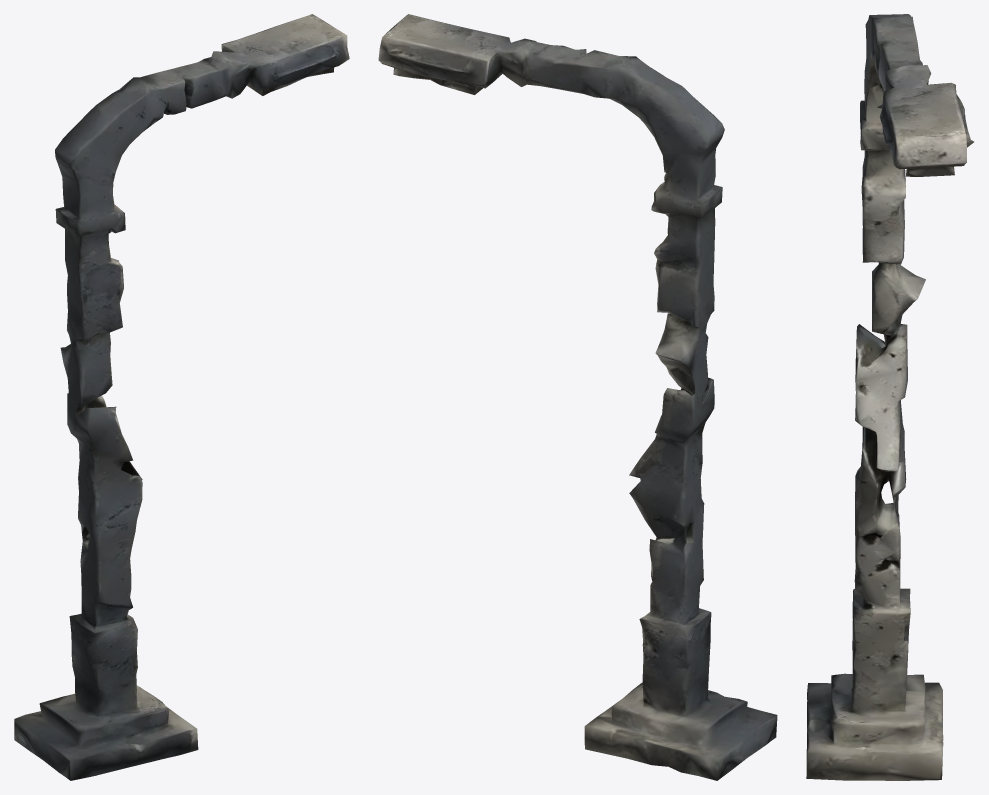
Rendered from e_lamp.glb.
3 renders of one model, left to right at view 1: azimuth 30°, elevation 25°; view 2: azimuth 150°, elevation 25°; view 3: azimuth 270°, elevation 25°, orthographic. The views are drawn at different scales.
Parts seen in each view (by area): view 1: tripo_node_dc2efa41-c354-4f38-8946-8e1c71b80ba7; view 2: tripo_node_dc2efa41-c354-4f38-8946-8e1c71b80ba7; view 3: tripo_node_dc2efa41-c354-4f38-8946-8e1c71b80ba7.
Boxes of the visible parts, bbox=[...] form: tripo_node_dc2efa41-c354-4f38-8946-8e1c71b80ba7: bbox=[14, 14, 349, 780]; tripo_node_dc2efa41-c354-4f38-8946-8e1c71b80ba7: bbox=[378, 14, 777, 780]; tripo_node_dc2efa41-c354-4f38-8946-8e1c71b80ba7: bbox=[806, 14, 973, 780].
Size of the model in its own units: 0.5139 by 1 by 0.2022.
Materials: 1 (1 with a texture image).
